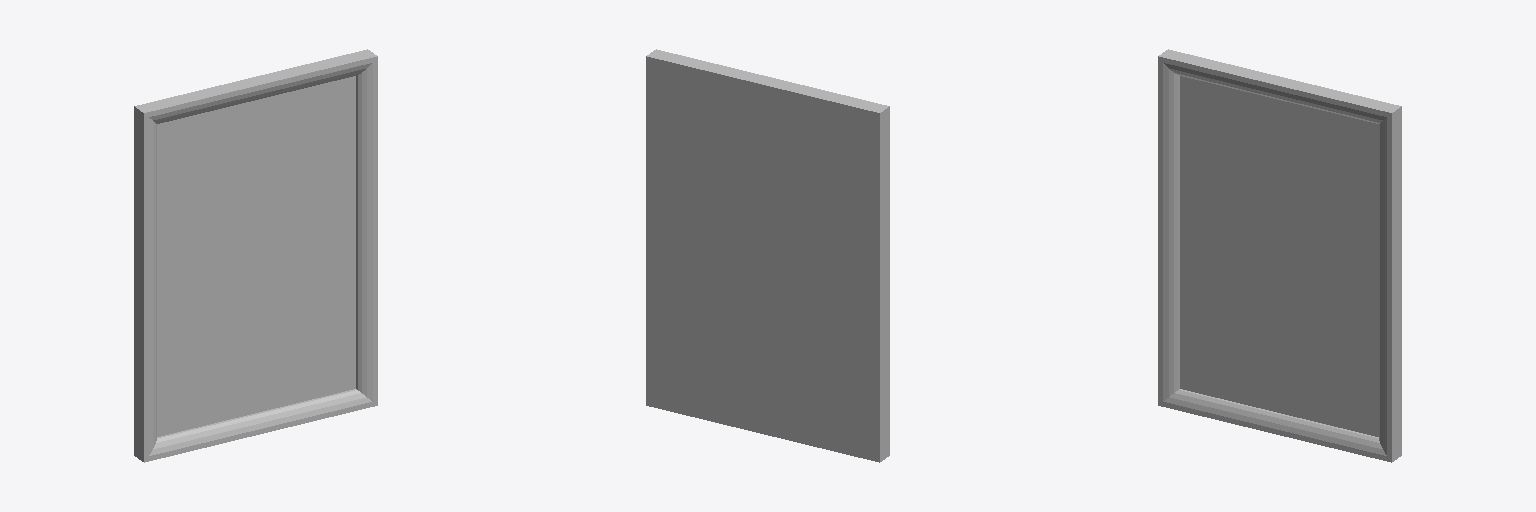
Rendered from Cuadro02.obj.
The picture shows the model from 3 angles: view 1: azimuth 30°, elevation 25°; view 2: azimuth 150°, elevation 25°; view 3: azimuth 330°, elevation 25°; orthographic projection.
Visible parts, largest first — view 1: pCube36; view 2: pCube36; view 3: pCube36.
Boxes of the visible parts, x1=… form: pCube36: x1=134, y1=49, x2=377, y2=462; pCube36: x1=646, y1=49, x2=889, y2=462; pCube36: x1=1158, y1=49, x2=1401, y2=462.
Bounding box in the file's own units: 0.2682 × 0.3831 × 0.0192.